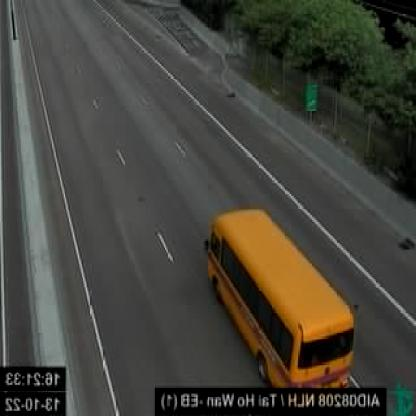Bus: (210, 209, 353, 392)
